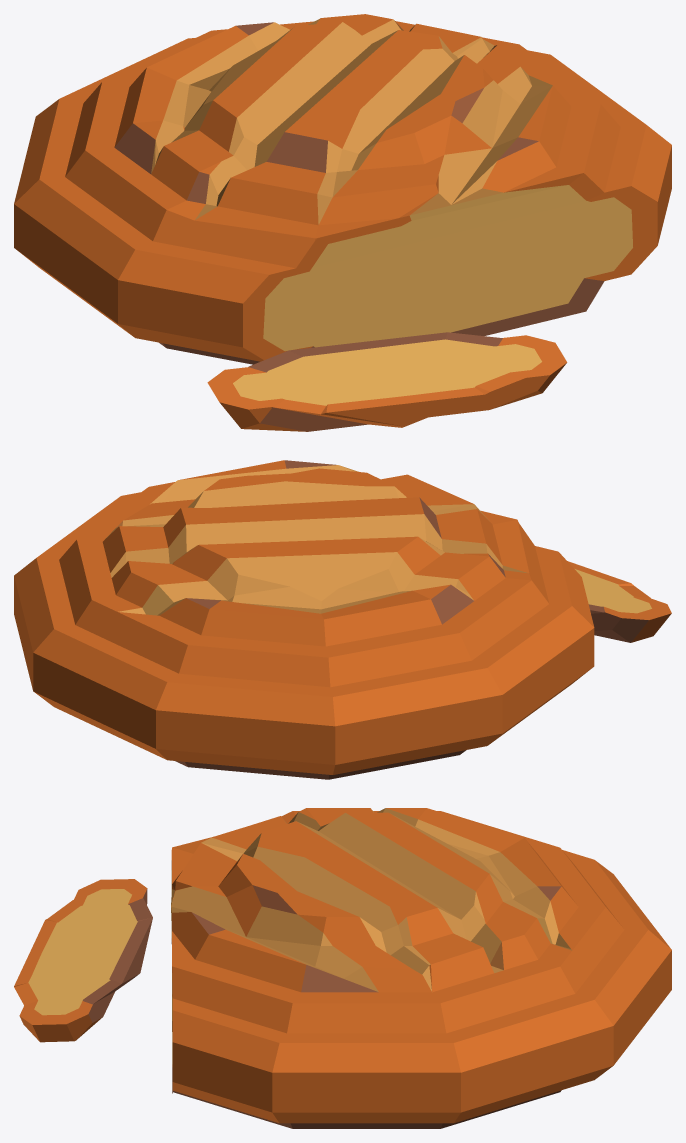
File: sliced _bread.fbx
The picture shows the model from 3 angles, top to bottom: view 1: azimuth 30°, elevation 25°; view 2: azimuth 150°, elevation 25°; view 3: azimuth 270°, elevation 25°; orthographic projection. The views are drawn at different scales.
Visible parts, largest first — view 1: Circle.006; view 2: Circle.006; view 3: Circle.006.
Part boxes in pixels (x1,y1,x2,y2): Circle.006: (14,14,671,431); Circle.006: (14,460,671,779); Circle.006: (14,808,671,1128).
Size of the model in its own units: 40.86 by 13.21 by 46.3.
